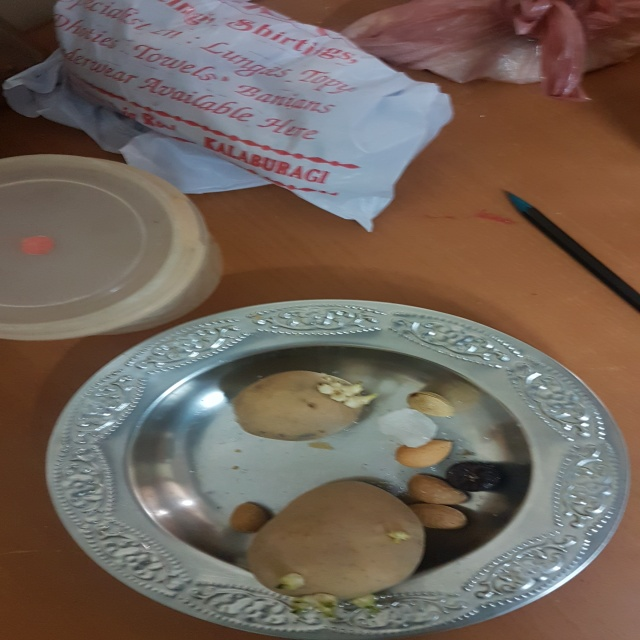potato: (251, 467, 432, 613), (230, 365, 385, 448)
